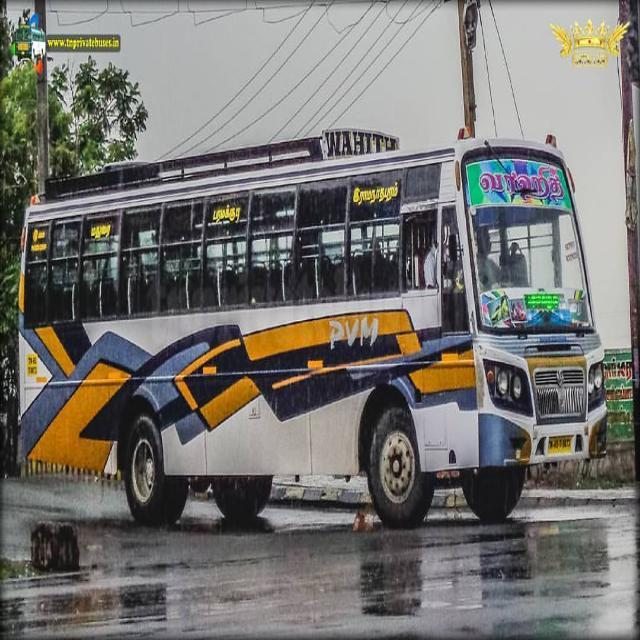Bus: (18, 120, 608, 530)
